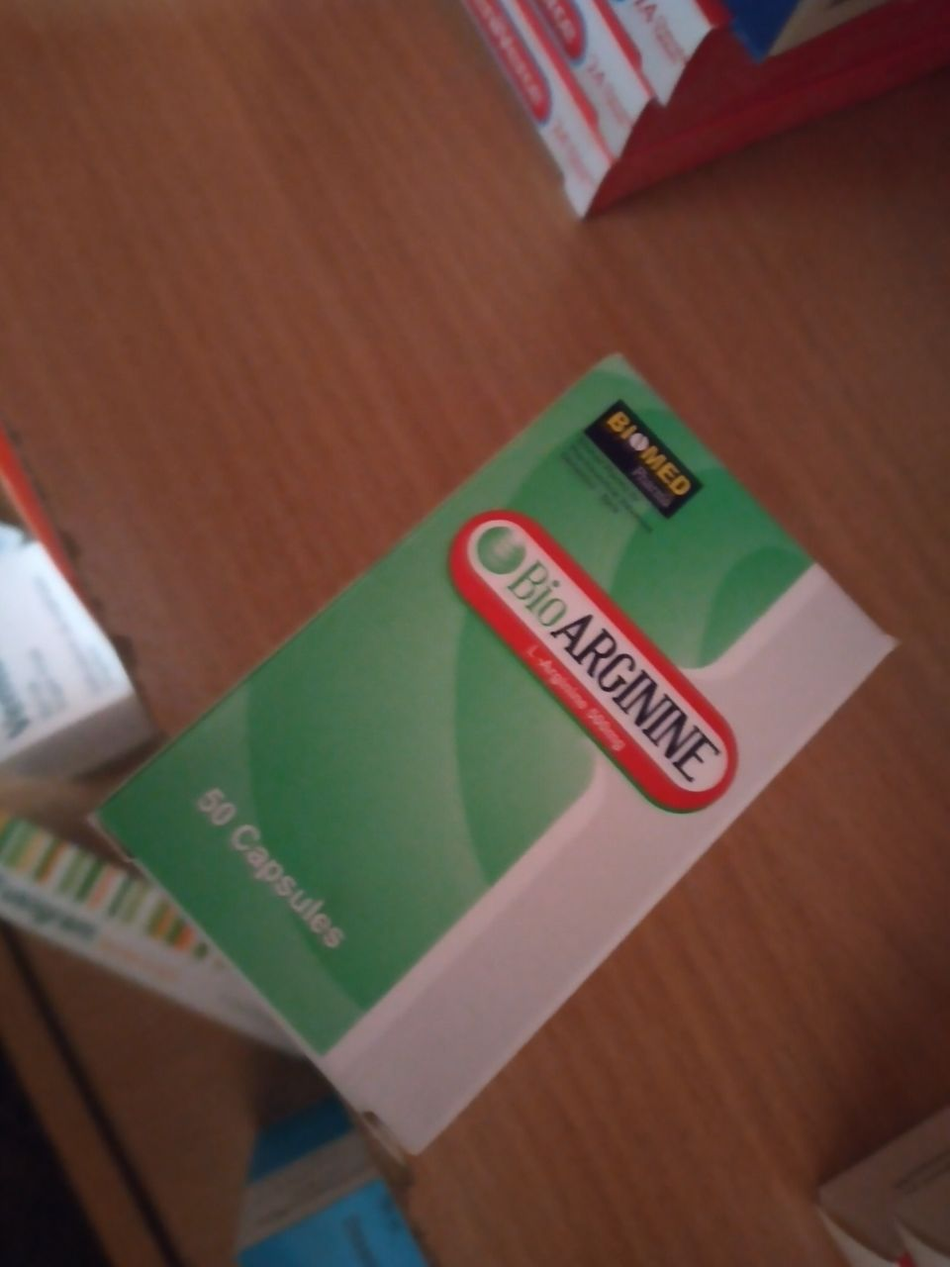Medicine: (106, 350, 910, 1158)
